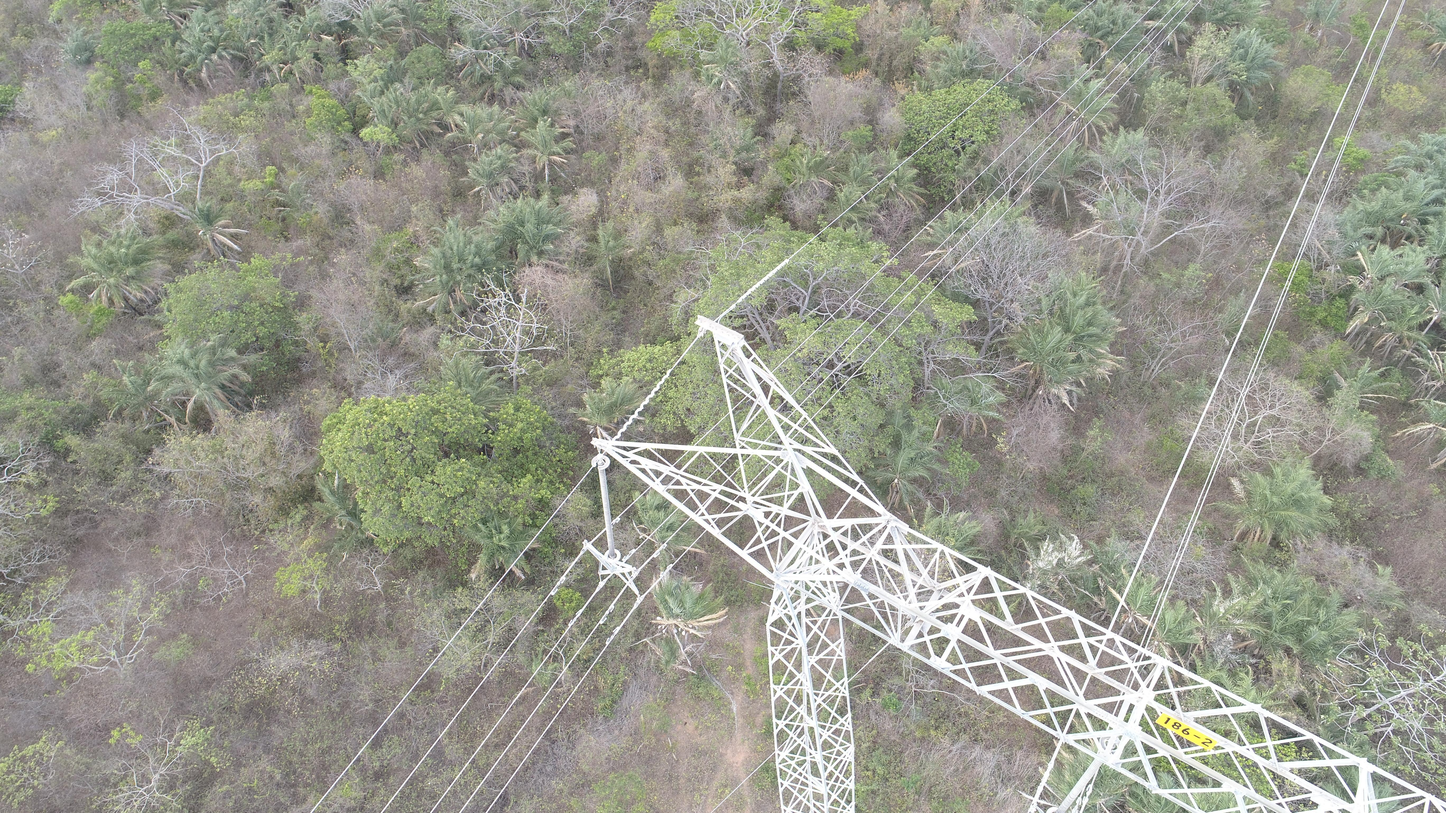power_tower: (581, 312, 1446, 813)
